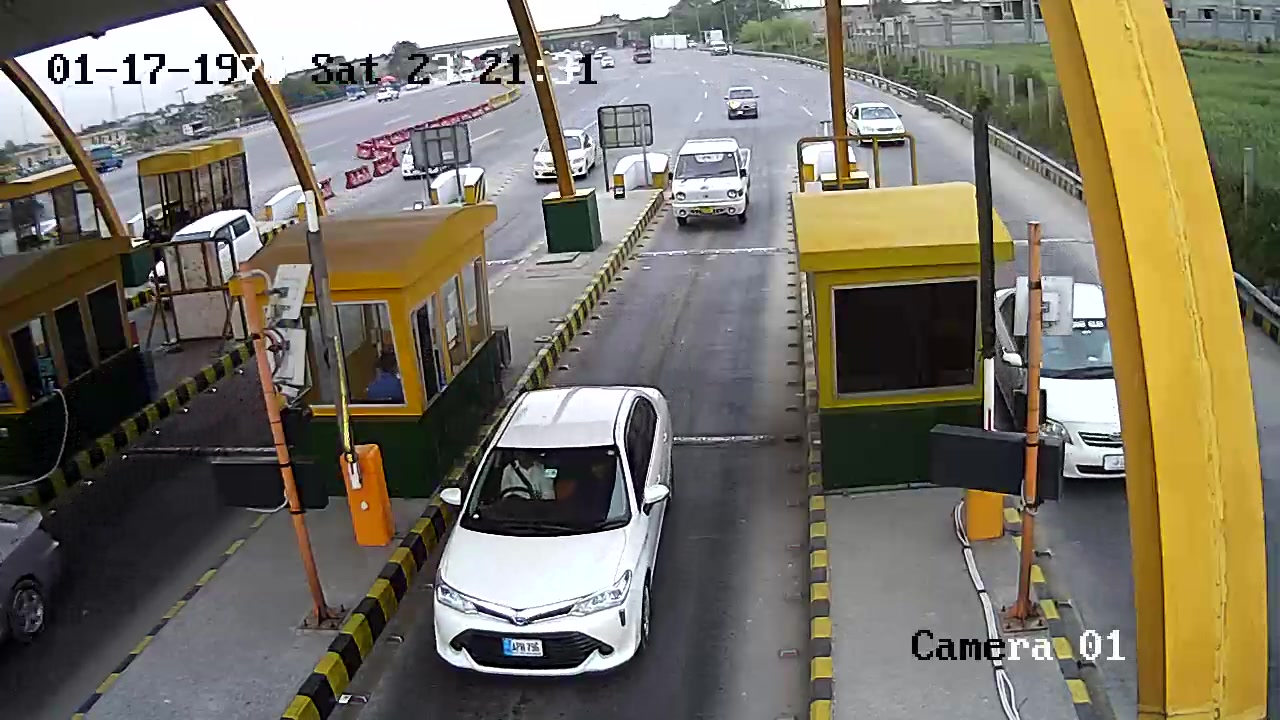F1: (427, 374, 677, 675)
